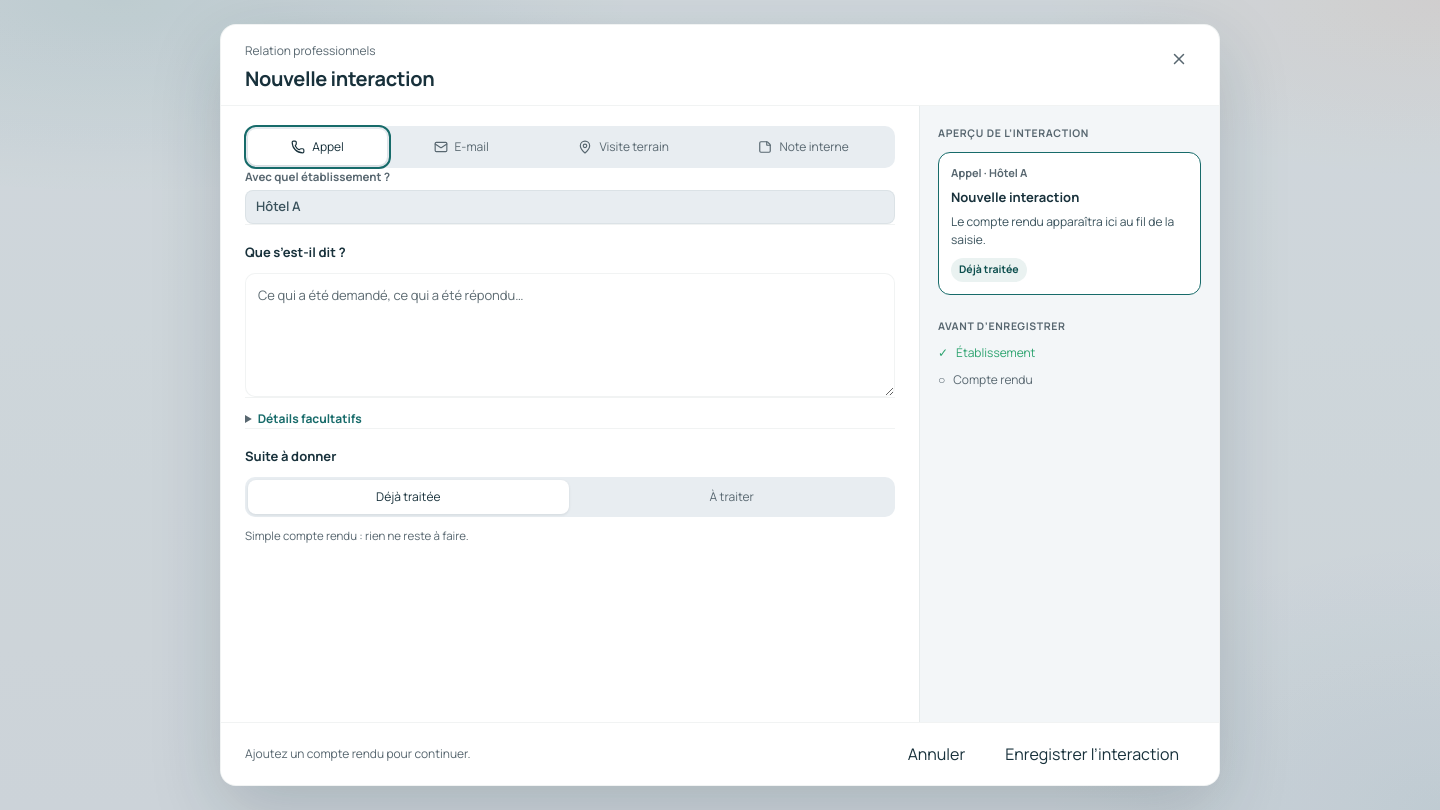
Test: CrmInteractionModal — relance en 2 temps (Phase 5.2, dé-modalisation) › titre de relance pré-rempli depuis le sujet sélectionné (éditable)
Click the heading "Détails facultatifs": x=303, y=419 [245, 410, 362, 428]
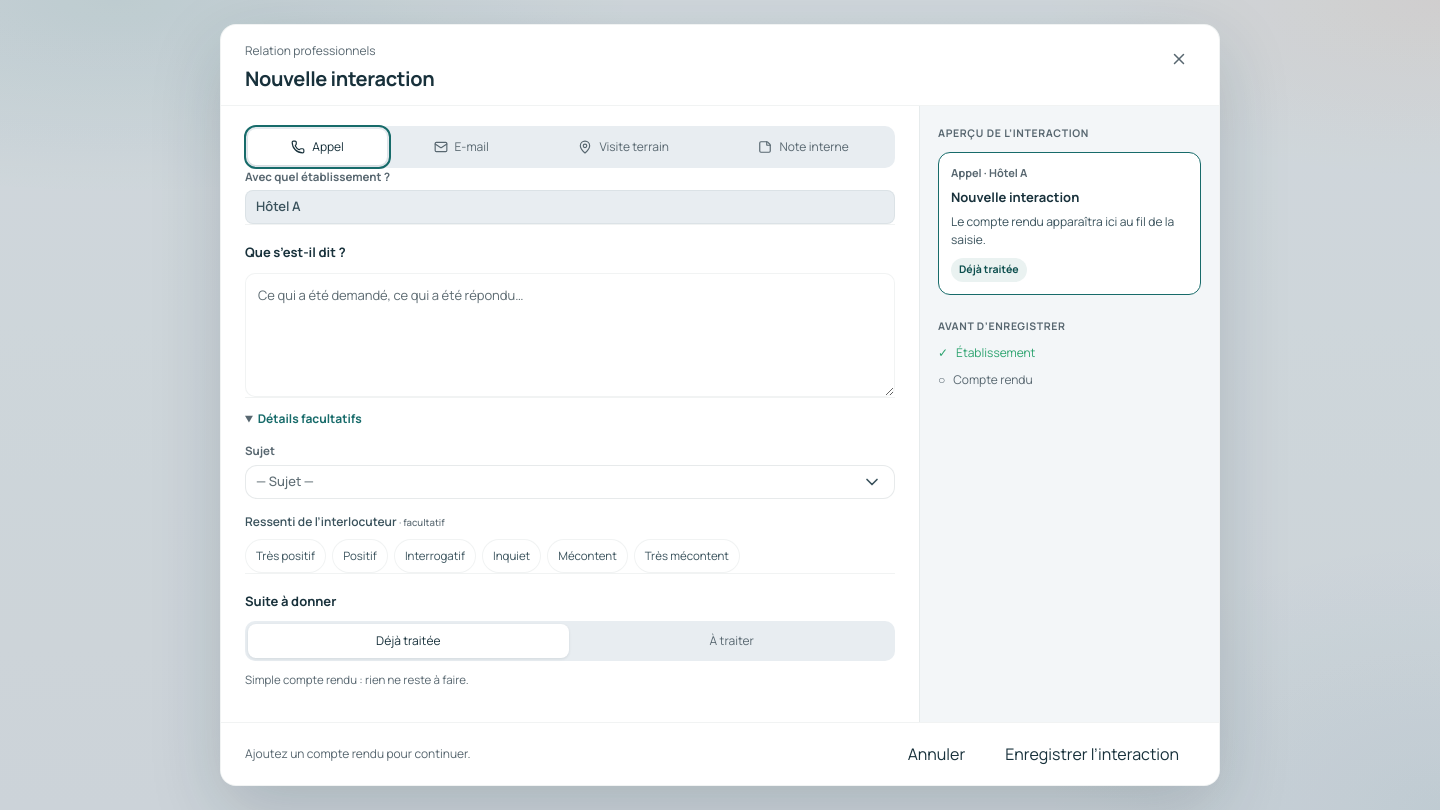
Click the dropdown named "Sujet normalisé": x=285, y=481 [245, 464, 895, 498]
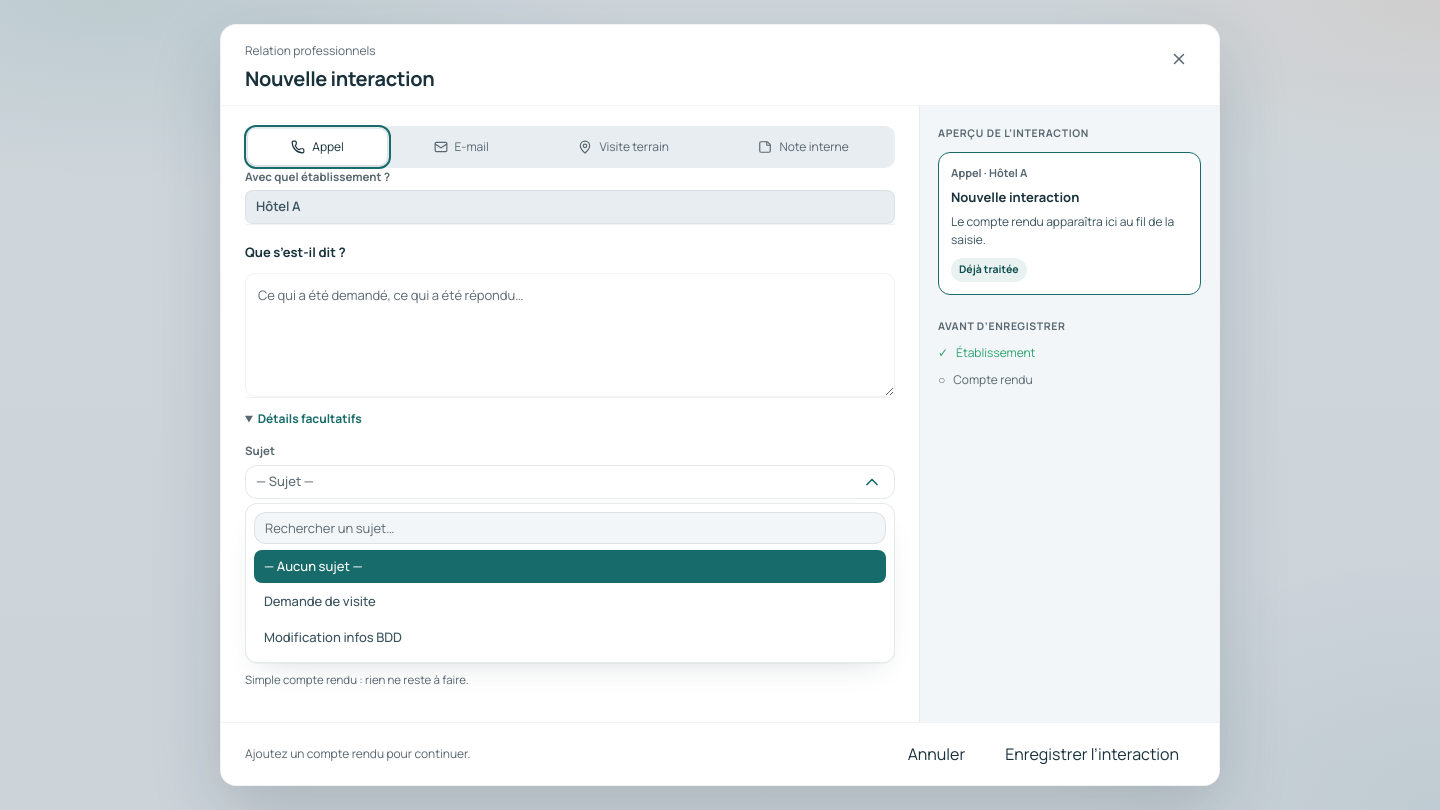
Click the option "Demande de visite": x=320, y=601 [254, 585, 886, 618]
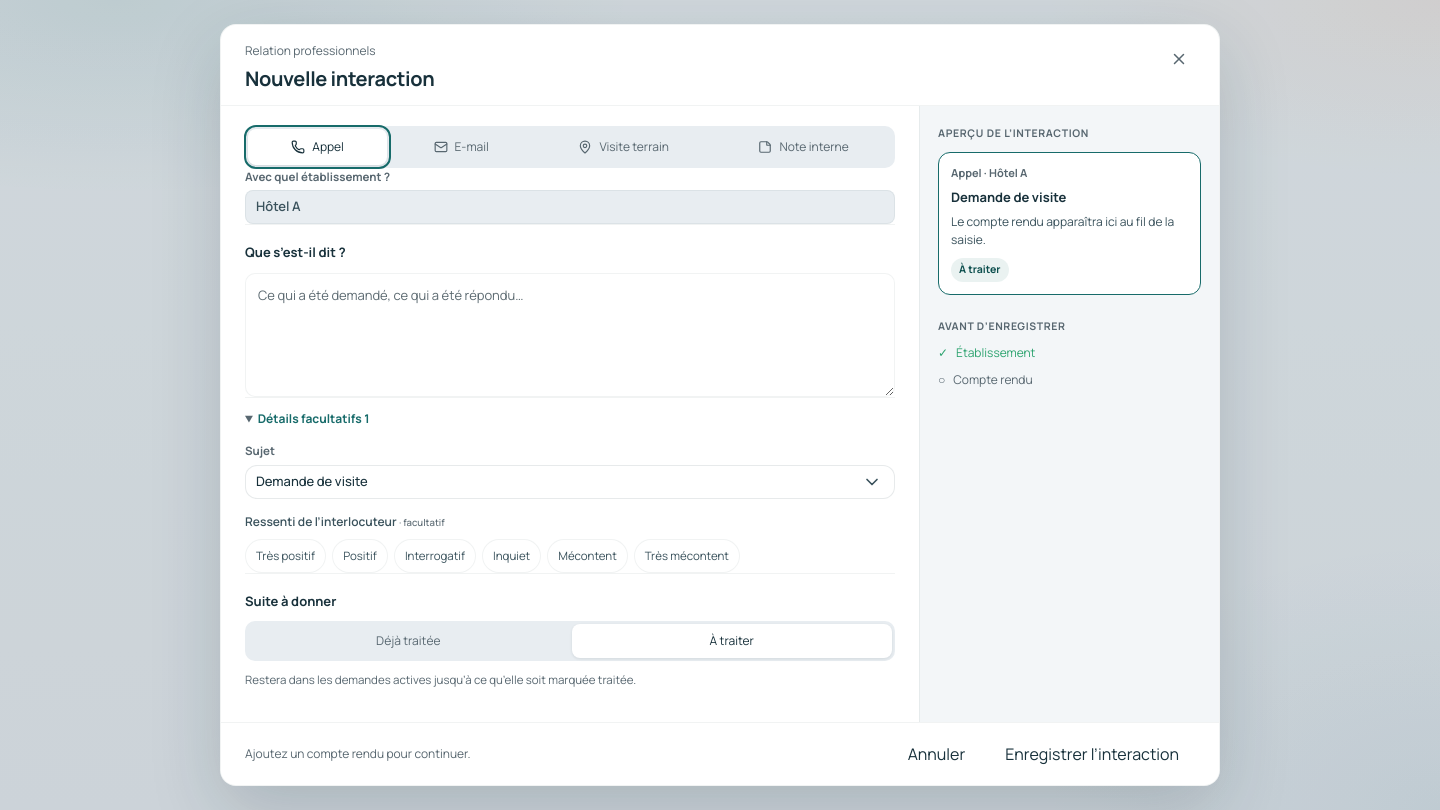
In the text box named "Compte rendu": x=570, y=335 [245, 272, 895, 397], type "Appel"
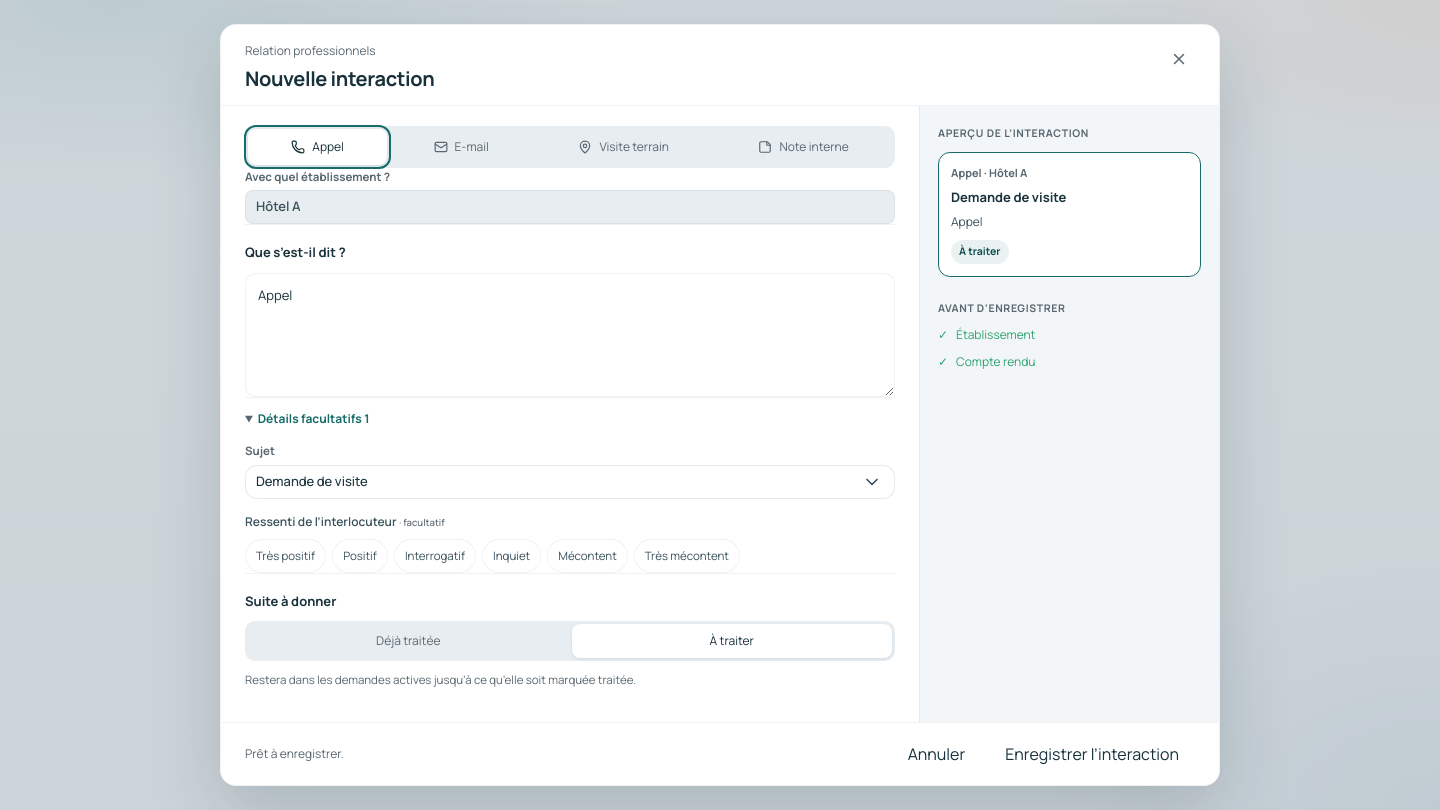
Click the button "Enregistrer l’interaction": x=1092, y=754 [989, 735, 1195, 773]
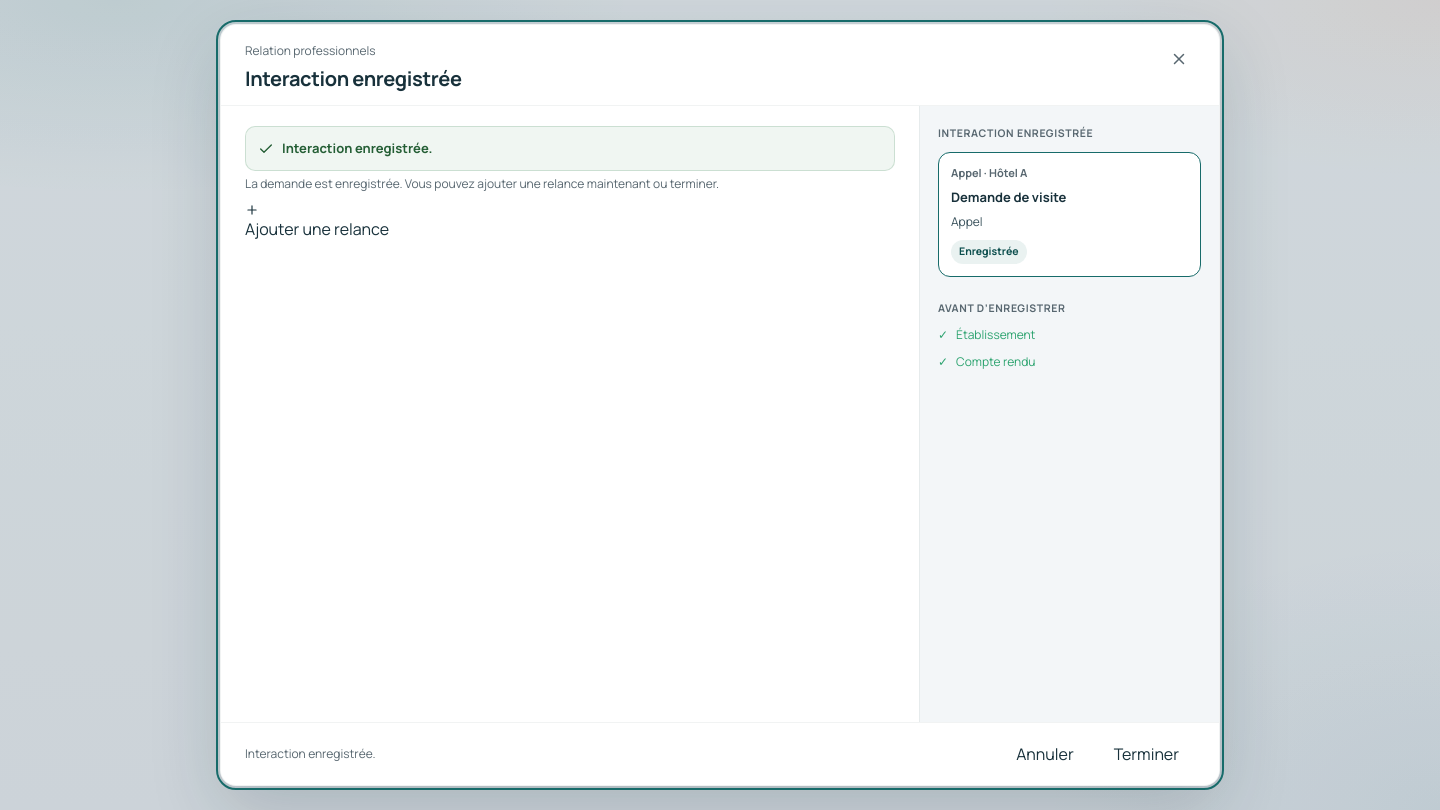
Click the button "Ajouter une relance": x=317, y=222 [245, 203, 389, 241]
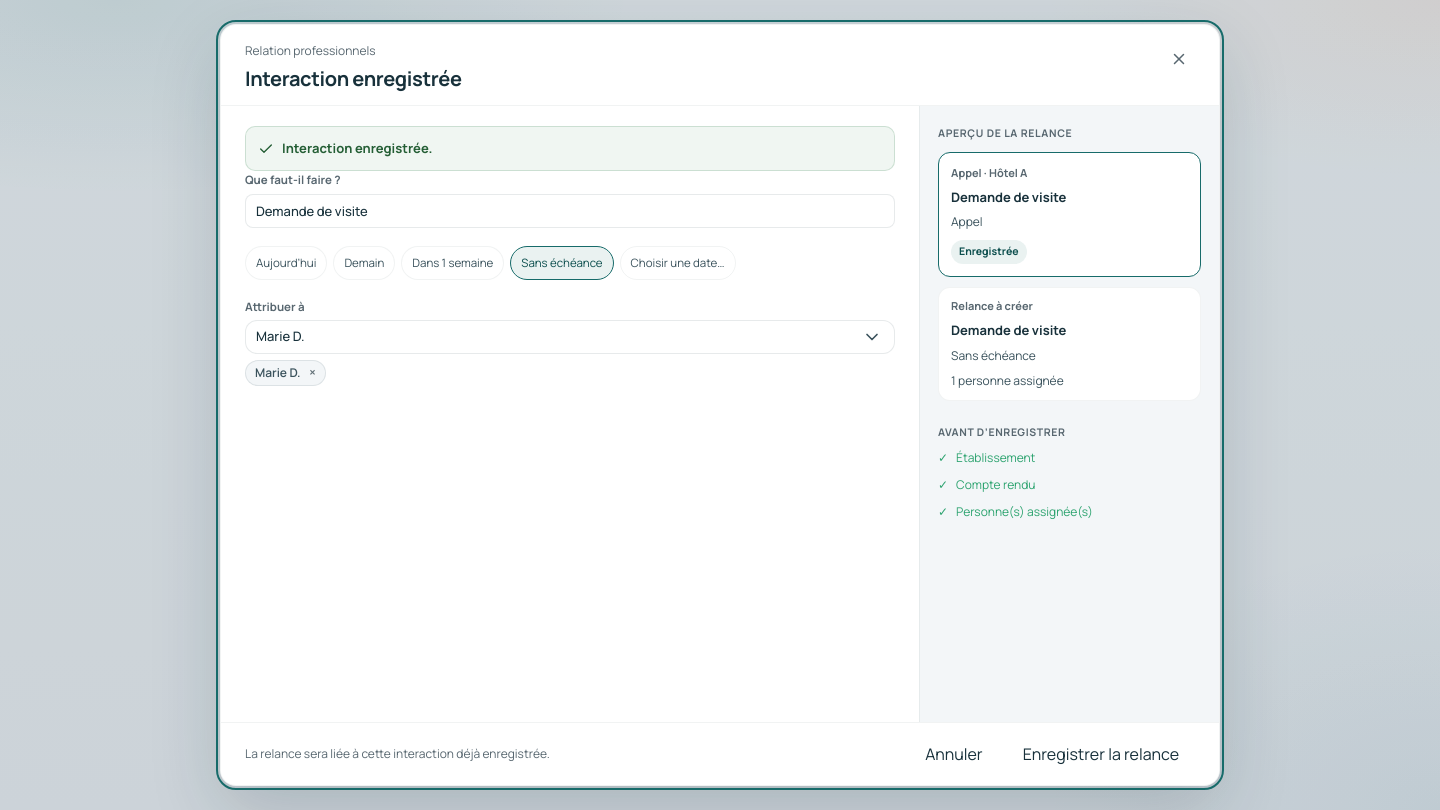
Result: the field named "Titre de la tâche" holds "Demande de visite" at [245, 194, 895, 228]
